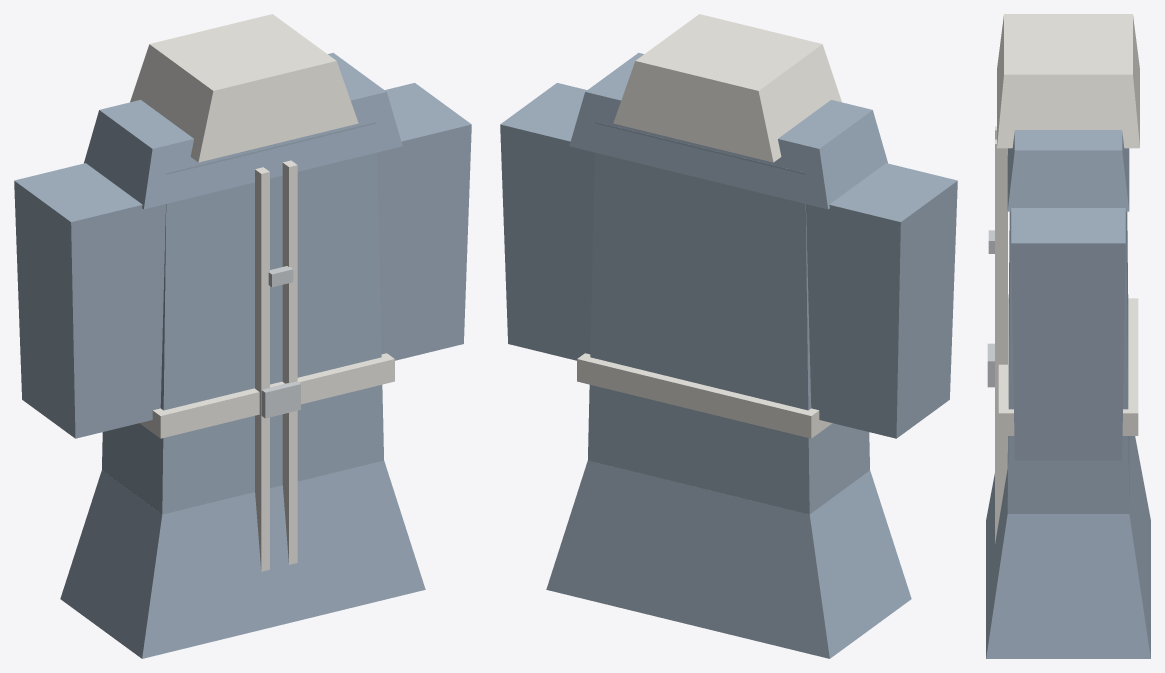
File: field_coat.glb
3 renders of one model, left to right at view 1: azimuth 30°, elevation 25°; view 2: azimuth 150°, elevation 25°; view 3: azimuth 270°, elevation 25°, orthographic.
Parts seen in each view (by area): view 1: coat_torso, coat_hem, coat_sleeve_left, coat_sleeve_right, coat_collar, coat_shoulder, coat_belt, coat_front_edge_right, coat_front_edge_left, coat_buckle; view 2: coat_torso, coat_hem, coat_sleeve_left, coat_sleeve_right, coat_collar, coat_shoulder, coat_belt; view 3: coat_sleeve_right, coat_hem, coat_collar, coat_shoulder, coat_torso, coat_front_edge_right, coat_belt, coat_buckle.
Part boxes in pixels (x1,y1,x2,y2): coat_torso: (102, 122, 383, 514); coat_hem: (60, 460, 425, 658); coat_sleeve_left: (14, 163, 165, 438); coat_sleeve_right: (377, 83, 471, 360); coat_collar: (130, 14, 358, 162); coat_shoulder: (84, 52, 402, 209); coat_belt: (139, 353, 394, 438); coat_front_edge_right: (282, 160, 297, 564); coat_front_edge_left: (255, 167, 269, 571); coat_buckle: (261, 381, 300, 418); coat_torso: (588, 122, 869, 514); coat_hem: (546, 460, 911, 658); coat_sleeve_left: (806, 163, 957, 438); coat_sleeve_right: (500, 83, 594, 360); coat_collar: (613, 14, 841, 162); coat_shoulder: (569, 52, 887, 209); coat_belt: (577, 353, 832, 438); coat_sleeve_right: (1011, 208, 1125, 460); coat_hem: (986, 436, 1150, 658); coat_collar: (997, 14, 1139, 148); coat_shoulder: (1007, 130, 1129, 211); coat_torso: (1007, 211, 1129, 513); coat_front_edge_right: (995, 139, 1007, 543); coat_belt: (998, 298, 1138, 435); coat_buckle: (987, 343, 994, 387).
Size of the model in its own units: 1.3 by 1.68 by 0.46.
